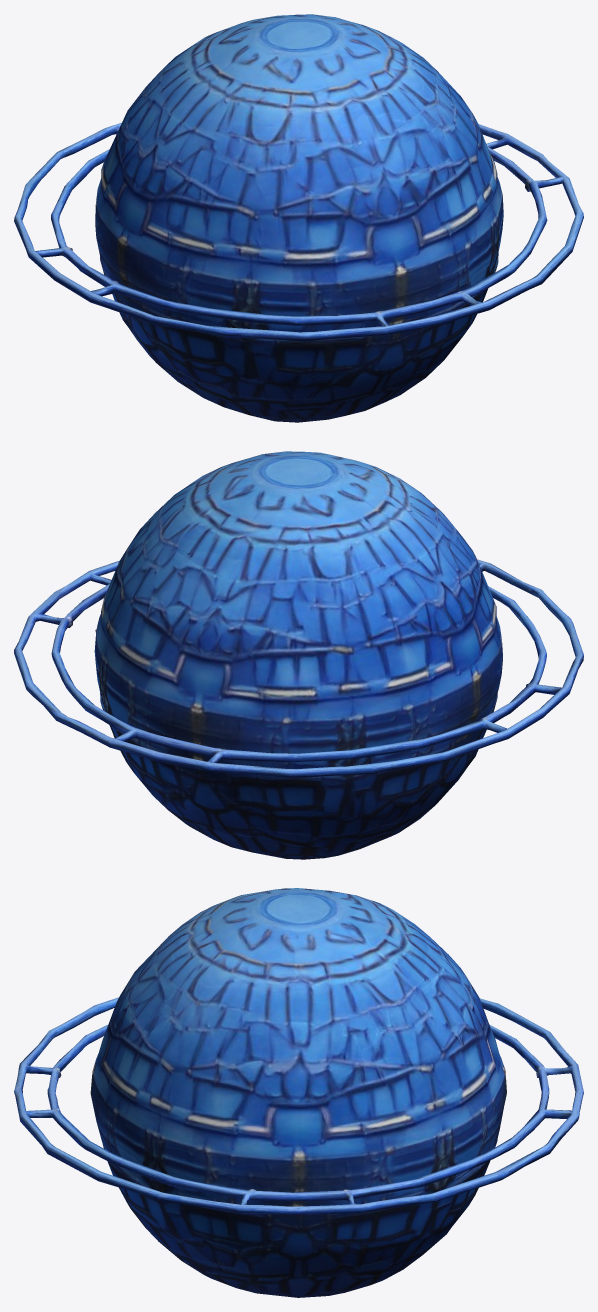
The model's file is reactor_core.glb.
The picture shows the model from 3 angles, top to bottom: view 1: azimuth 30°, elevation 25°; view 2: azimuth 150°, elevation 25°; view 3: azimuth 270°, elevation 25°; orthographic projection.
Parts seen in each view (by area): view 1: reactor_core; view 2: reactor_core; view 3: reactor_core.
Part boxes in pixels (bbox=[...]): reactor_core: bbox=[14, 14, 583, 422]; reactor_core: bbox=[14, 451, 583, 859]; reactor_core: bbox=[14, 888, 583, 1297].
Size of the model in its own units: 0.9996 by 0.723 by 1.
Materials: 1 (1 with a texture image).
